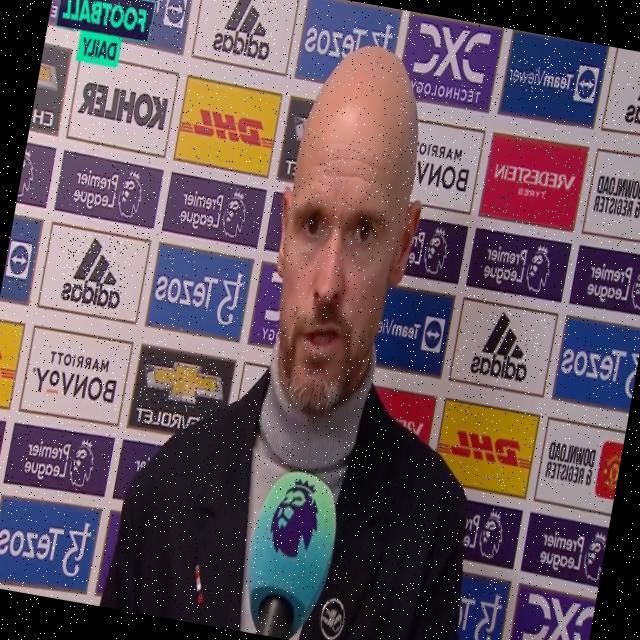Adidas: (58, 231, 131, 312), (468, 307, 537, 386), (211, 0, 278, 60), (622, 50, 640, 131)
Chevrolet: (133, 354, 227, 436)
Kohler: (78, 81, 169, 131)
TeamViewer: (506, 52, 598, 103), (92, 0, 187, 29)
